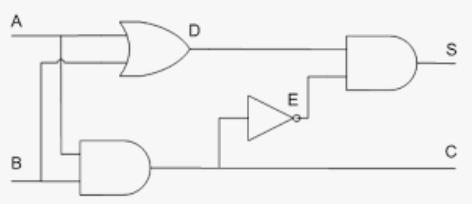and: (341, 32, 422, 97), (74, 136, 154, 201)
not: (245, 95, 304, 143)
or: (115, 14, 189, 82)
